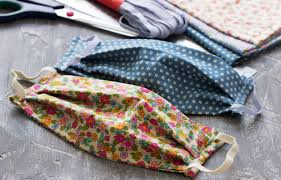cloth_mask: (10, 67, 241, 180)
